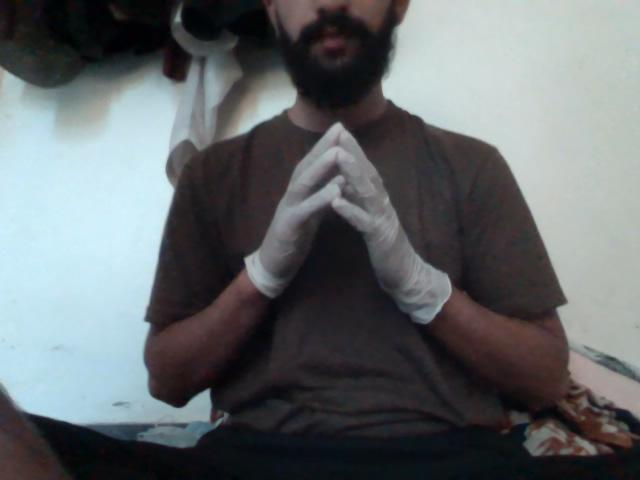gloves: (248, 99, 434, 341)
